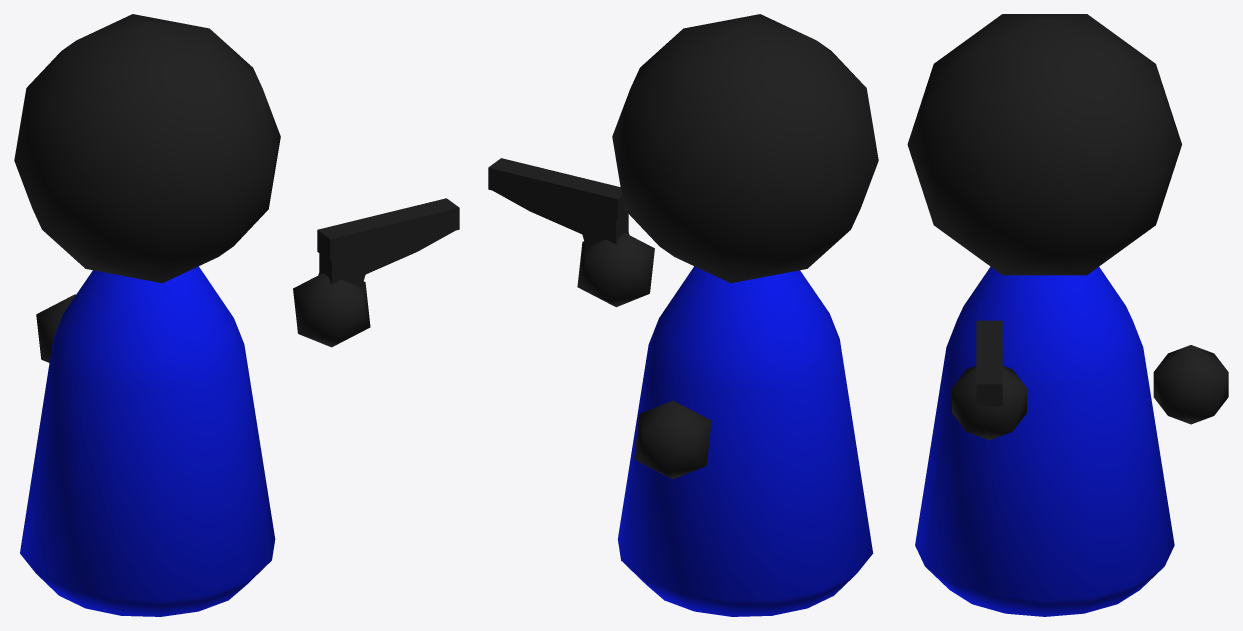
Rendered from guy.glb.
The picture shows the model from 3 angles, left to right: view 1: azimuth 30°, elevation 25°; view 2: azimuth 150°, elevation 25°; view 3: azimuth 270°, elevation 25°; orthographic projection.
Visible parts, largest first — view 1: Body, Head, HandRight, HandLeft; view 2: Body, Head, HandRight, HandLeft; view 3: Body, Head, HandRight, HandLeft.
Boxes of the visible parts, x1,y1,x2,y2 form: Body: [20, 266, 275, 616]; Head: [14, 14, 280, 283]; HandRight: [293, 198, 459, 347]; HandLeft: [36, 294, 75, 362]; Body: [617, 266, 873, 616]; Head: [612, 14, 878, 283]; HandRight: [488, 158, 654, 307]; HandLeft: [634, 400, 711, 479]; Body: [915, 266, 1174, 616]; Head: [907, 14, 1181, 275]; HandRight: [952, 320, 1026, 440]; HandLeft: [1153, 345, 1228, 424].
Bounding box in the file's own units: 1.65 × 2.22 × 1.17.
